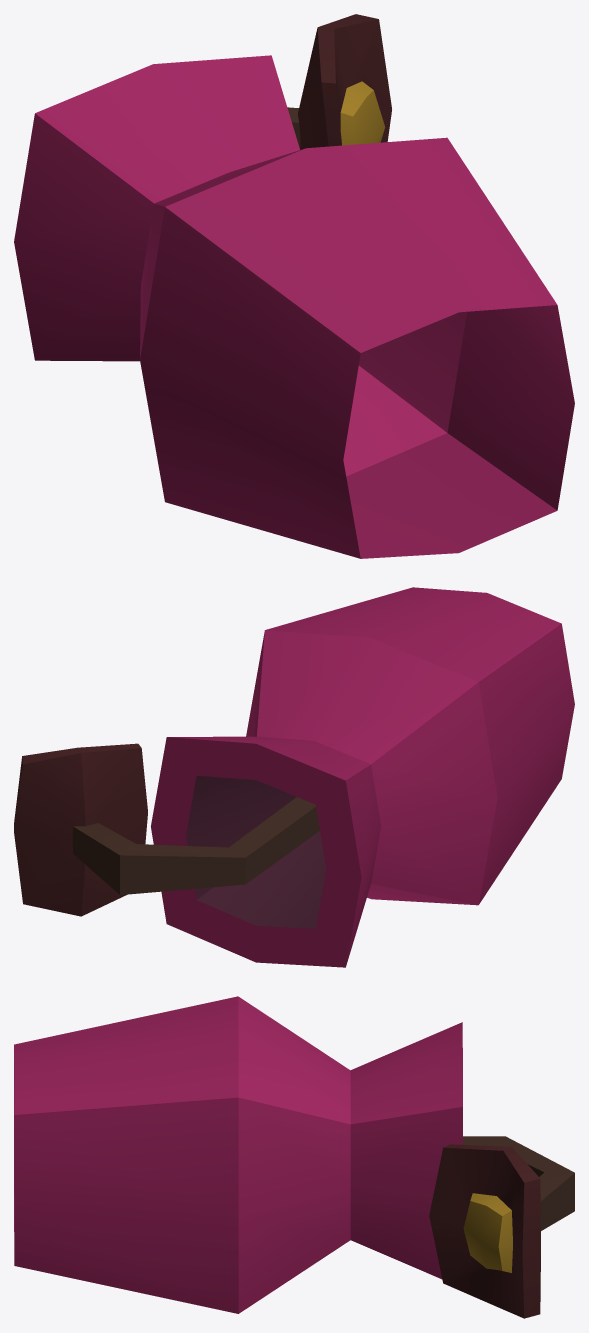
File: Vase 01.FBX
3 views of the same model, one above another, from view 1: azimuth 30°, elevation 25°; view 2: azimuth 150°, elevation 25°; view 3: azimuth 270°, elevation 25° (orthographic). The views are drawn at different scales.
Visible parts, largest first — view 1: Vase 01; view 2: Vase 01; view 3: Vase 01.
Boxes of the visible parts, x1,y1,x2,y2 form: Vase 01: (14,14,574,558); Vase 01: (14,587,574,967); Vase 01: (14,996,574,1318).
Bounding box in the file's own units: 36.62 × 27.12 × 54.4.
